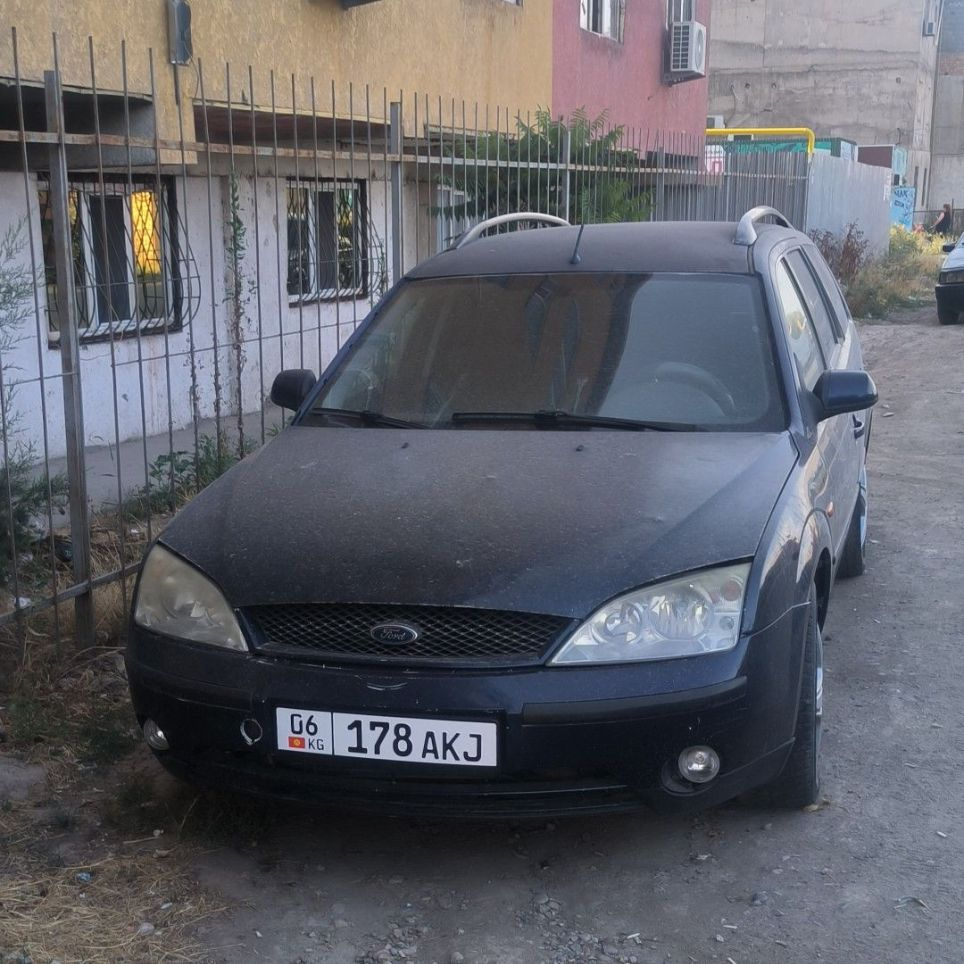license plate: (276, 708, 497, 768)
truck: (125, 222, 879, 817)
